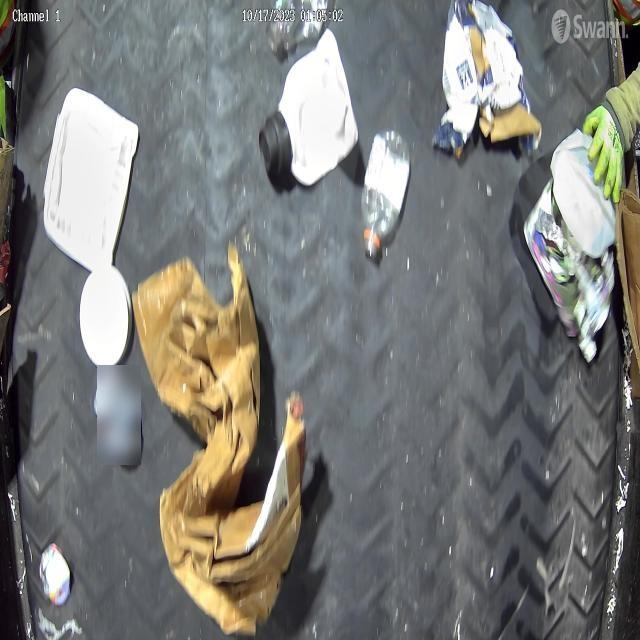milk_jug: (550, 132, 618, 258)
plastic_bottle: (361, 127, 412, 260)
